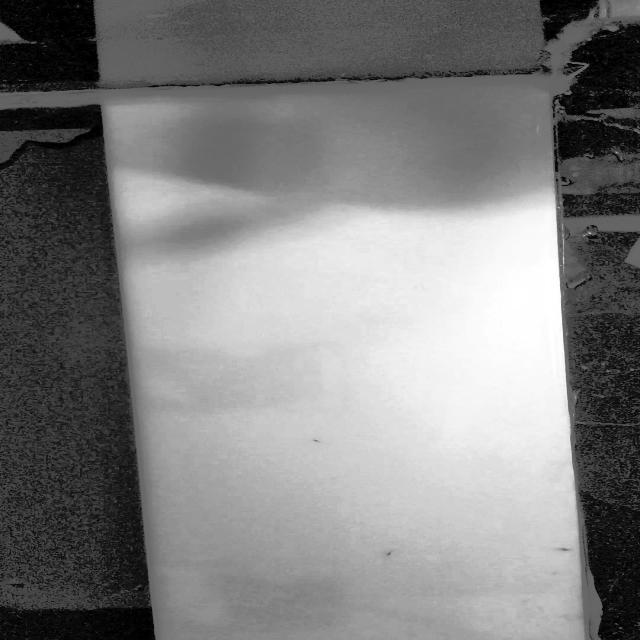shrimp: (299, 432, 331, 451), (376, 541, 408, 560), (536, 541, 580, 553)
